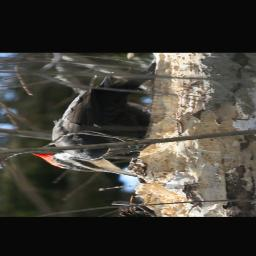Woodpecker: (30, 58, 154, 177)
